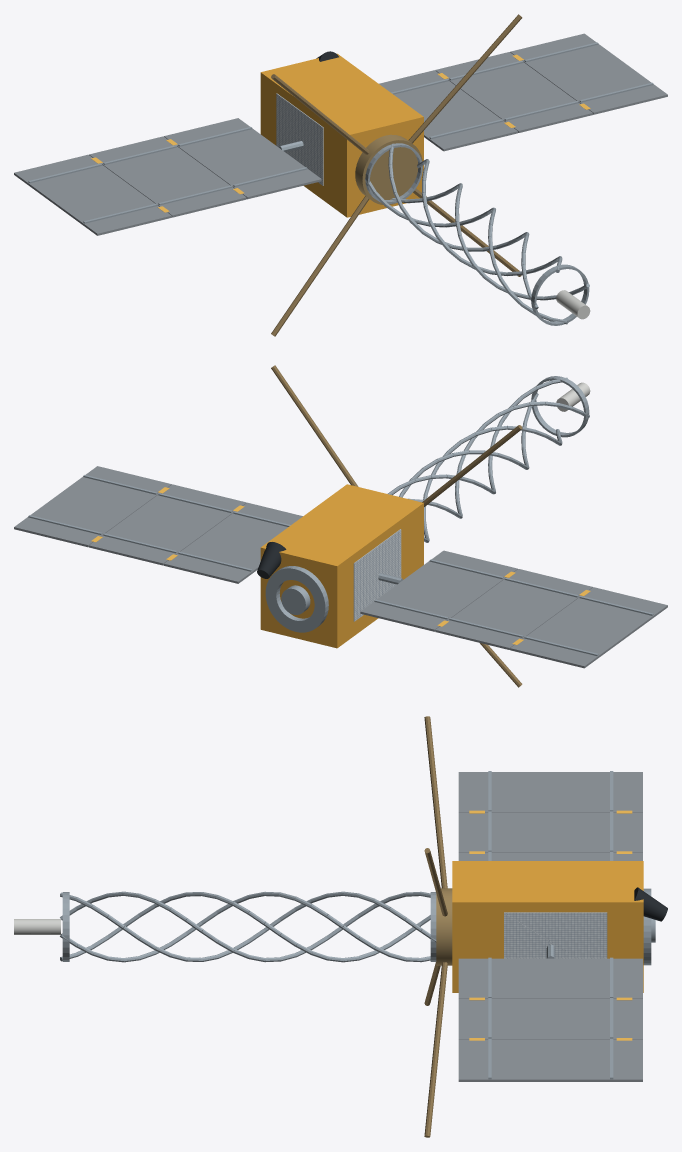
Rendered from kineis-ais.glb.
3 renders of one model, top to bottom at view 1: azimuth 30°, elevation 25°; view 2: azimuth 150°, elevation 25°; view 3: azimuth 270°, elevation 25°, orthographic. The views are drawn at different scales.
Visible parts, largest first — view 1: Solar panel substrate (×6), Spacecraft body, AIS VHF antenna blade (×4), UHF deployment canister, Thermal radiator tiles, UHF spreader ring (×2), Stacked S-band antenna; view 2: Solar panel substrate (×6), Spacecraft body, Thermal radiator tiles, Launch interface, AIS VHF antenna blade (×2), UHF spreader ring, Electric thruster, Star tracker; view 3: Solar panel substrate (×6), Spacecraft body, Thermal radiator tiles, AIS VHF antenna blade (×2), UHF deployment canister, Stacked S-band antenna.
Part boxes in pixels (x1,y1,x2,y2): Solar panel substrate (×6): (14, 33, 667, 235); Spacecraft body: (260, 53, 423, 217); AIS VHF antenna blade (×4): (271, 14, 522, 336); UHF deployment canister: (355, 134, 422, 204); Thermal radiator tiles: (276, 93, 323, 185); UHF spreader ring (×2): (365, 143, 589, 325); Stacked S-band antenna: (556, 290, 590, 319); Solar panel substrate (×6): (14, 466, 667, 668); Spacecraft body: (260, 484, 423, 648); Thermal radiator tiles: (353, 529, 401, 621); Launch interface: (265, 566, 328, 632); AIS VHF antenna blade (×2): (271, 365, 522, 506); UHF spreader ring: (531, 376, 589, 437); Electric thruster: (281, 585, 310, 614); Star tracker: (257, 542, 286, 578); Solar panel substrate (×6): (458, 772, 642, 1081); Spacecraft body: (452, 861, 643, 992); Thermal radiator tiles: (504, 912, 607, 958); AIS VHF antenna blade (×2): (424, 716, 447, 1137); UHF deployment canister: (436, 888, 452, 965); Stacked S-band antenna: (14, 919, 60, 934).
Bounding box in the file's own units: 1.6 × 0.7022 × 1.44.
Materials: 11 (2 with a texture image).
